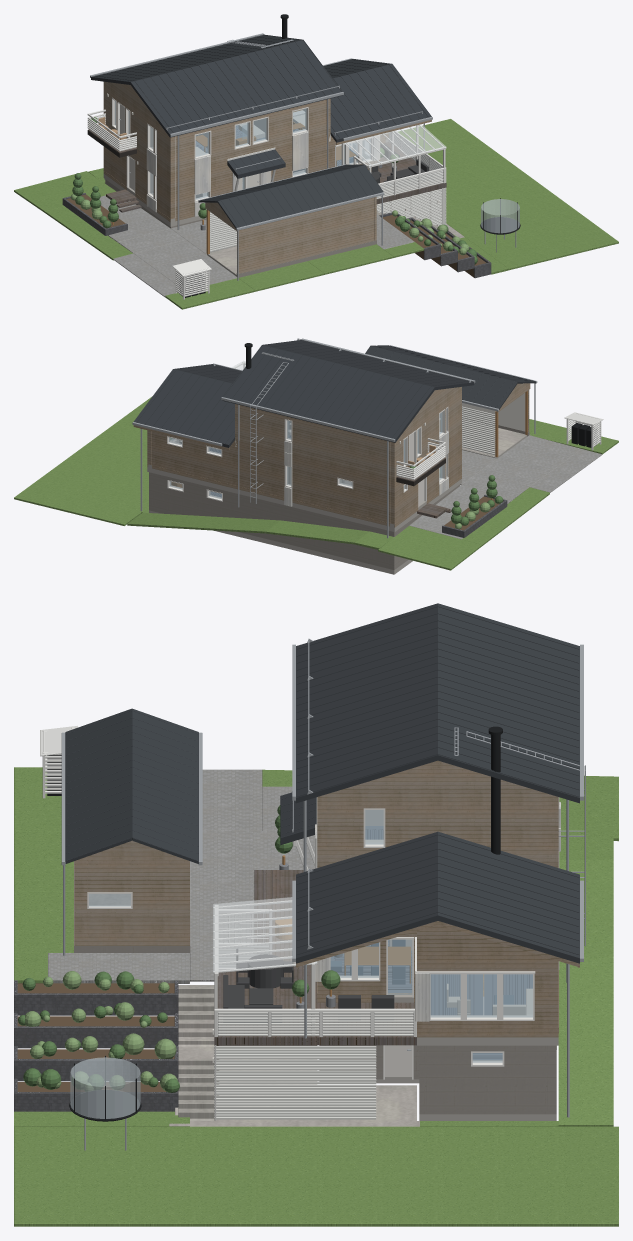
Rendered from marmorikatu-house.glb.
3 views of the same model, one above another, from view 1: azimuth 30°, elevation 25°; view 2: azimuth 150°, elevation 25°; view 3: azimuth 270°, elevation 25° (orthographic). The views are drawn at different scales.
Visible parts, largest first — view 1: T.lawnFar, R.main.s, TR.wW.seg0, R.wing.s, TR.roof.w, R.main.n, T.perg.canopy, TR.pave.drive, T.lawnN.a, T.lawnN.b, T.lawnS2, T.lawnS1 (+34 smaller); view 2: R.main.n, T.lawnFar, R.wing.n, K.wN.seg0, F2.wN.seg0, TR.pave.drive, R.main.s, T.lawnN.a, TR.roof.e, F1.wN.blk.seg2, F1.wN.blk.seg1, T.lawnE.slab2 (+35 smaller); view 3: T.lawnFar, R.main.s, R.main.n, R.wing.s, R.wing.n, T.lawnE.slab2, TR.roof.e, TR.roof.w, TR.pave.court, F2.wE.seg1, T.perg.canopy, R.gable.e (+51 smaller).
Boxes of the visible parts, x1=… form: T.lawnFar: x1=398, y1=119, x2=618, y2=270; R.main.s: x1=130, y1=40, x2=342, y2=137; TR.wW.seg0: x1=237, y1=197, x2=374, y2=273; R.wing.s: x1=330, y1=64, x2=431, y2=142; TR.roof.w: x1=218, y1=165, x2=382, y2=228; R.main.n: x1=91, y1=35, x2=301, y2=84; T.perg.canopy: x1=344, y1=124, x2=446, y2=166; TR.pave.drive: x1=134, y1=239, x2=237, y2=285; T.lawnN.a: x1=14, y1=171, x2=116, y2=212; T.lawnN.b: x1=45, y1=206, x2=132, y2=260; T.lawnS2: x1=307, y1=244, x2=393, y2=274; T.lawnS1: x1=238, y1=261, x2=323, y2=291; R.main.n: x1=222, y1=345, x2=434, y2=442; T.lawnFar: x1=14, y1=396, x2=171, y2=525; R.wing.n: x1=133, y1=369, x2=234, y2=447; K.wN.seg0: x1=223, y1=490, x2=389, y2=568; F2.wN.seg0: x1=292, y1=418, x2=390, y2=477; TR.pave.drive: x1=477, y1=435, x2=581, y2=486; R.main.s: x1=263, y1=340, x2=474, y2=390; T.lawnN.a: x1=378, y1=525, x2=481, y2=570; TR.roof.e: x1=365, y1=346, x2=517, y2=409; F1.wN.blk.seg2: x1=235, y1=440, x2=284, y2=497; F1.wN.blk.seg1: x1=292, y1=453, x2=337, y2=510; T.lawnE.slab2: x1=127, y1=512, x2=280, y2=533; T.lawnFar: x1=14, y1=1126, x2=618, y2=1226; R.main.s: x1=296, y1=603, x2=437, y2=803; R.main.n: x1=438, y1=603, x2=579, y2=803; R.wing.s: x1=296, y1=831, x2=437, y2=963; R.wing.n: x1=438, y1=831, x2=579, y2=963; T.lawnE.slab2: x1=558, y1=957, x2=613, y2=1126; TR.roof.e: x1=132, y1=708, x2=198, y2=863; TR.roof.w: x1=65, y1=708, x2=131, y2=863; TR.pave.court: x1=190, y1=831, x2=314, y2=981; F2.wE.seg1: x1=385, y1=802, x2=558, y2=867; T.perg.canopy: x1=213, y1=897, x2=317, y2=972; R.gable.e: x1=317, y1=760, x2=558, y2=801.
Bounding box in the file's own units: 30.01 × 11.91 × 19.99.
Materials: 90 (13 with a texture image).
